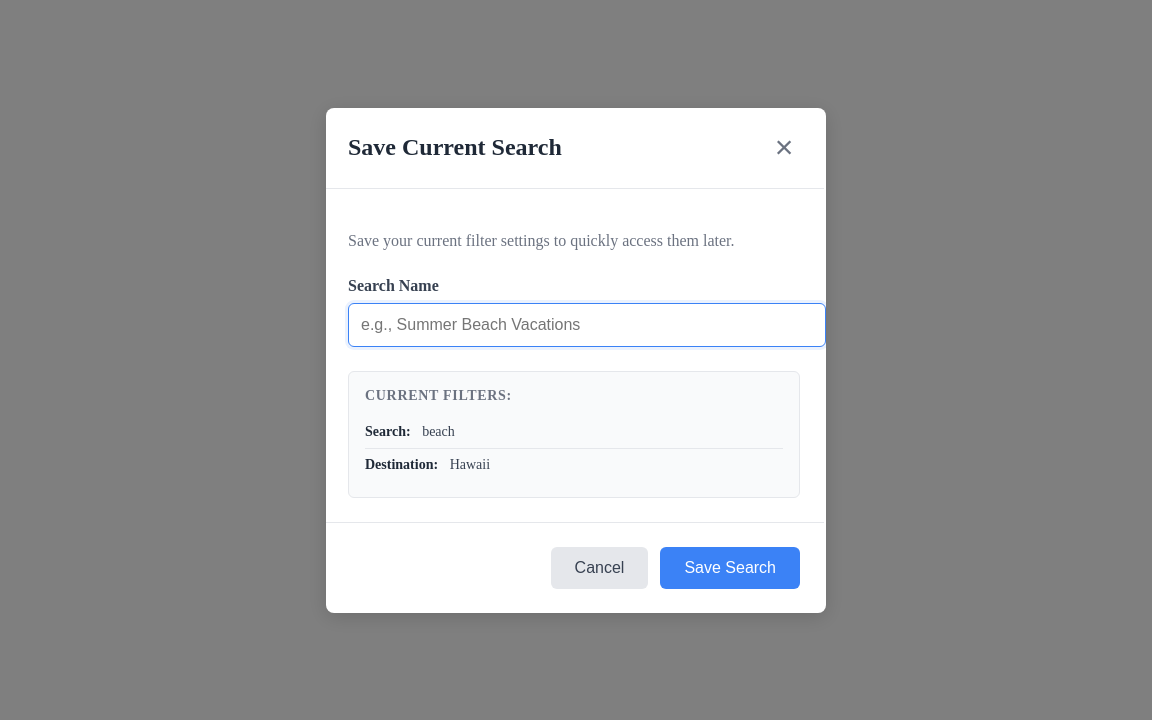
SaveSearchModal › validates short name
Step 1. Type "ab" into the field labelled "Search Name" → (587, 324), box left=348, top=302, right=826, bottom=346
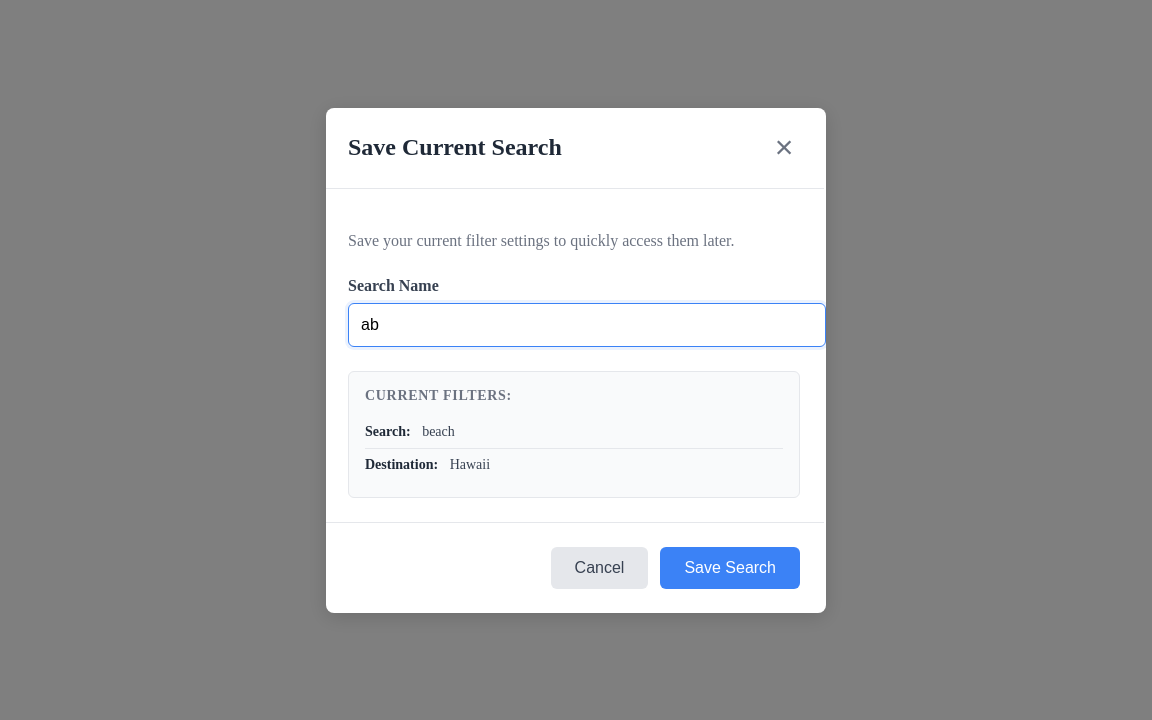
Step 2. Click the button "Save Search" → (730, 568), box left=660, top=546, right=800, bottom=588
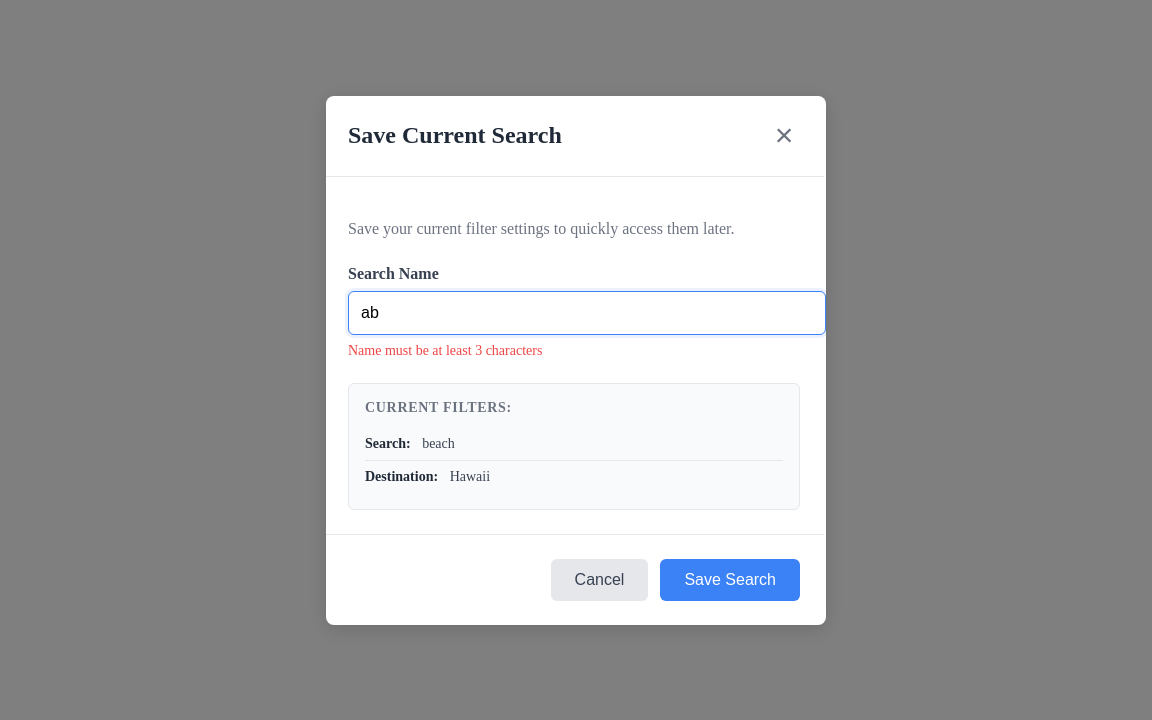
Check: the text "Name must be at least 3 characters" is shown, box left=348, top=342, right=542, bottom=358
